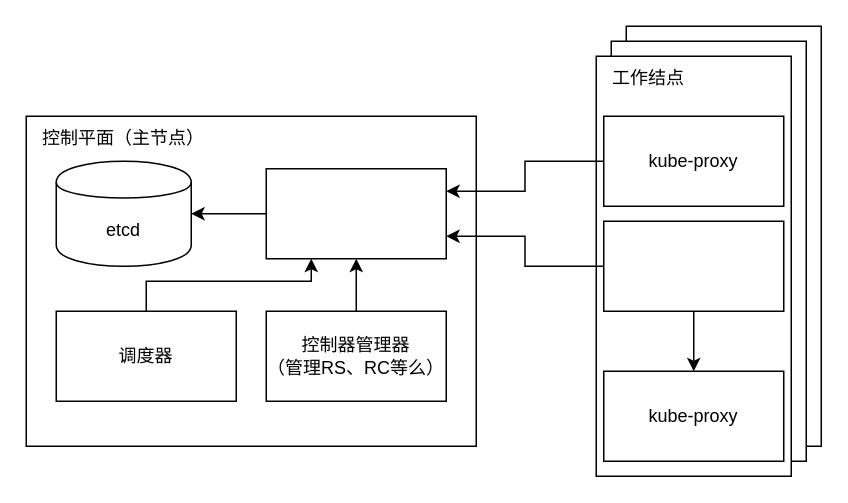
This 848x503 diagram has some shape labels left out. Each missing label, with the centre of its shape:
"API服务器" goes at point (355, 213).
"Kubelet" goes at point (693, 265).
